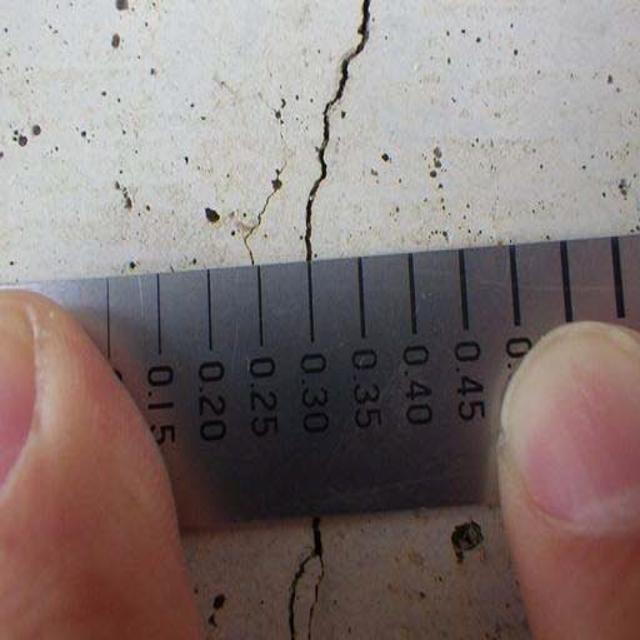crack: (234, 0, 378, 264), (250, 527, 334, 640)
